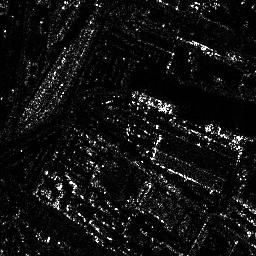ship: (130, 90, 180, 116)
